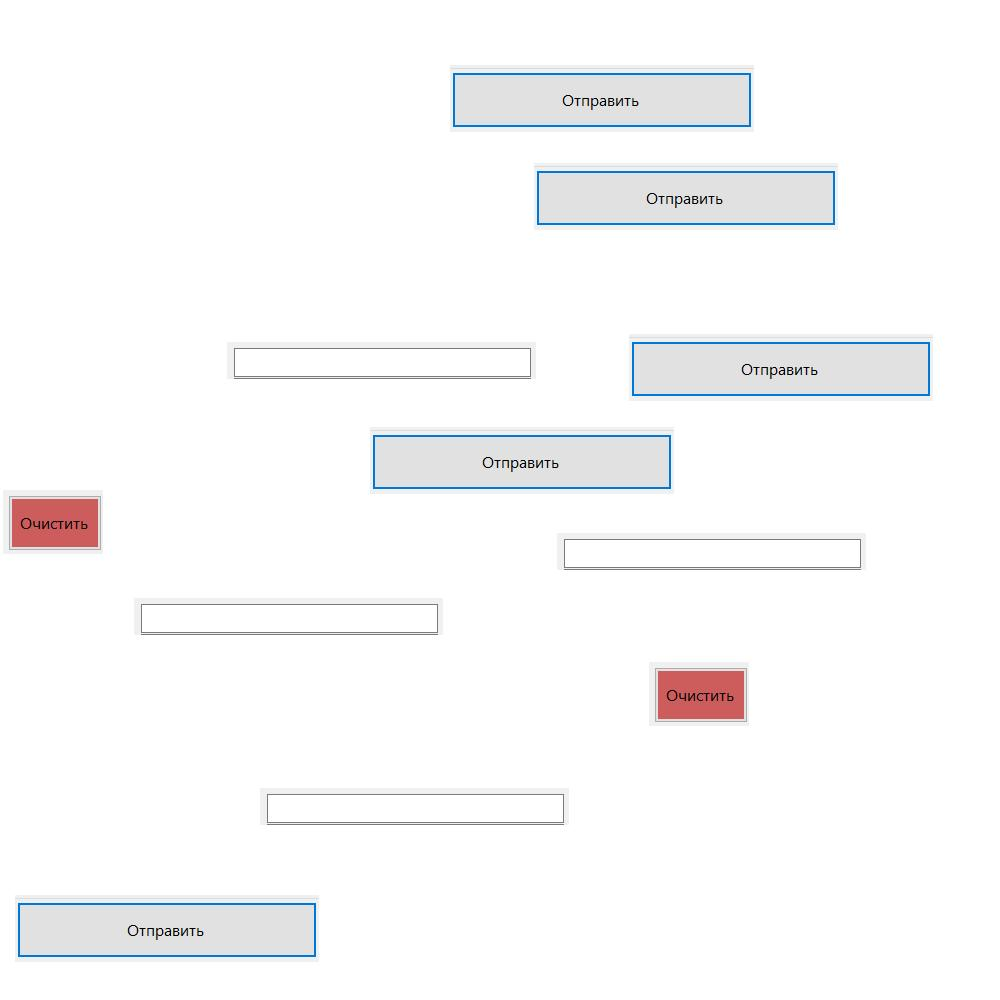Button: (534, 163, 838, 230), (450, 65, 754, 132), (15, 895, 319, 962), (629, 334, 933, 401), (370, 427, 674, 494), (649, 662, 749, 726), (3, 490, 103, 554)
EditText-: (134, 598, 443, 635), (260, 788, 569, 825), (227, 342, 536, 379), (557, 533, 866, 570)
